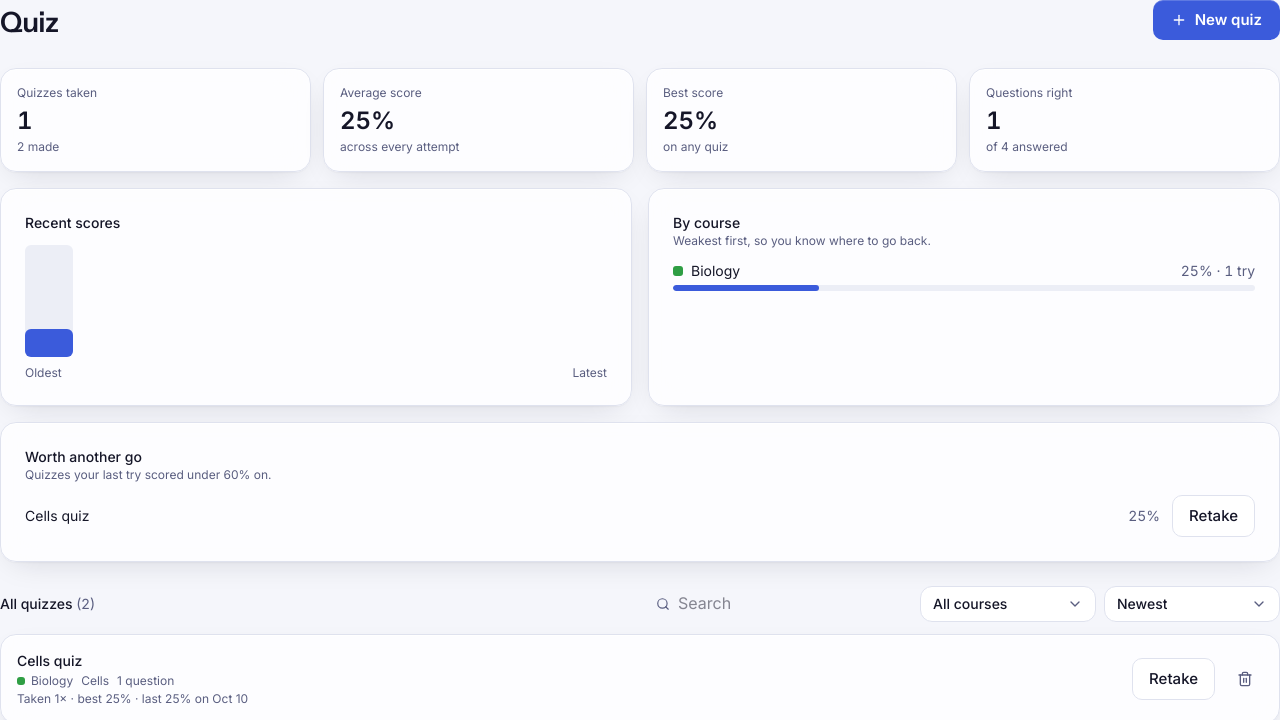
Test: the Quiz page › asks before deleting, and says what else goes with the quiz
Click the button named "Delete Cells quiz": (1245, 679) [1227,661,1263,697]
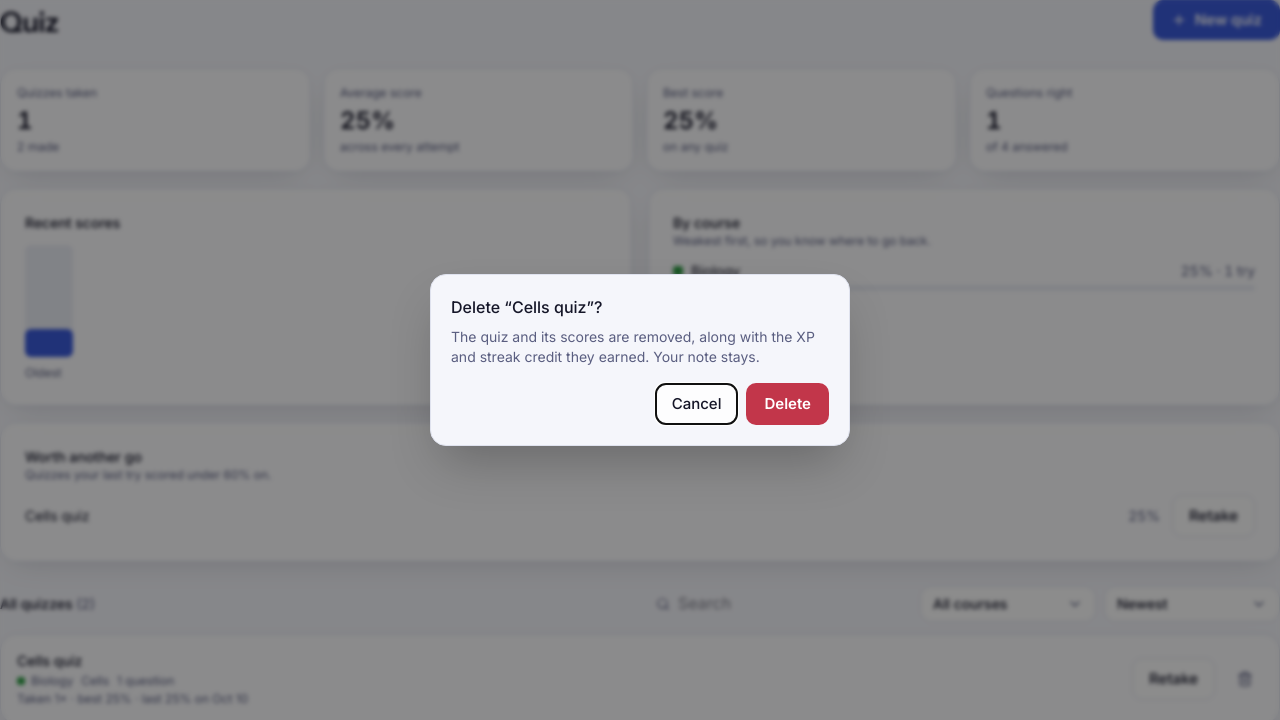
Expected: the dialog shows "XP", [451,328,815,365]
Click the button "Delete": (788, 404) [746,383,829,425]
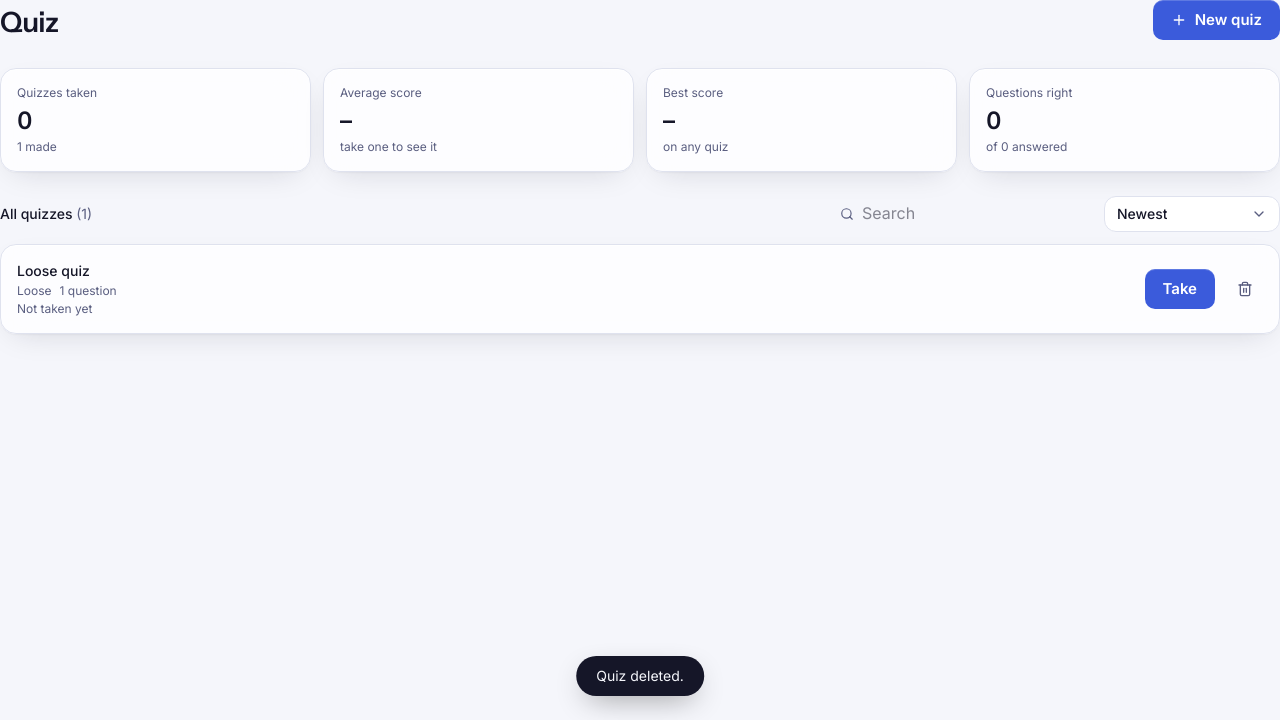
Expected: the text "Cells quiz" is gone
